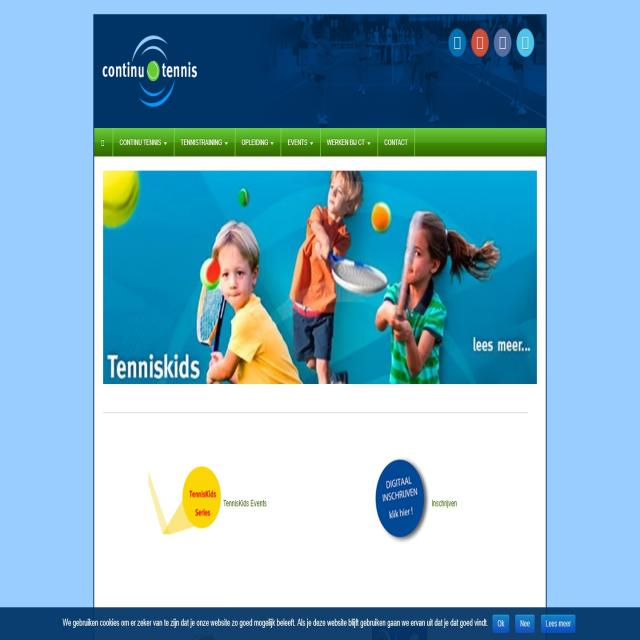button: (320, 128, 378, 156), (114, 130, 174, 157), (175, 129, 233, 156), (281, 130, 319, 158), (236, 130, 280, 154), (379, 129, 413, 157), (542, 613, 576, 632), (516, 28, 535, 58), (493, 30, 511, 58), (472, 30, 489, 58), (449, 29, 465, 58), (95, 128, 112, 152), (515, 615, 534, 634), (493, 614, 508, 632)
heading: (102, 37, 198, 109), (101, 62, 200, 82)
iframe: (0, 605, 640, 640)
image: (103, 170, 538, 383)
text: (104, 346, 203, 384), (380, 474, 422, 523), (470, 331, 534, 355), (187, 487, 216, 521), (222, 496, 267, 513), (425, 494, 459, 512)
